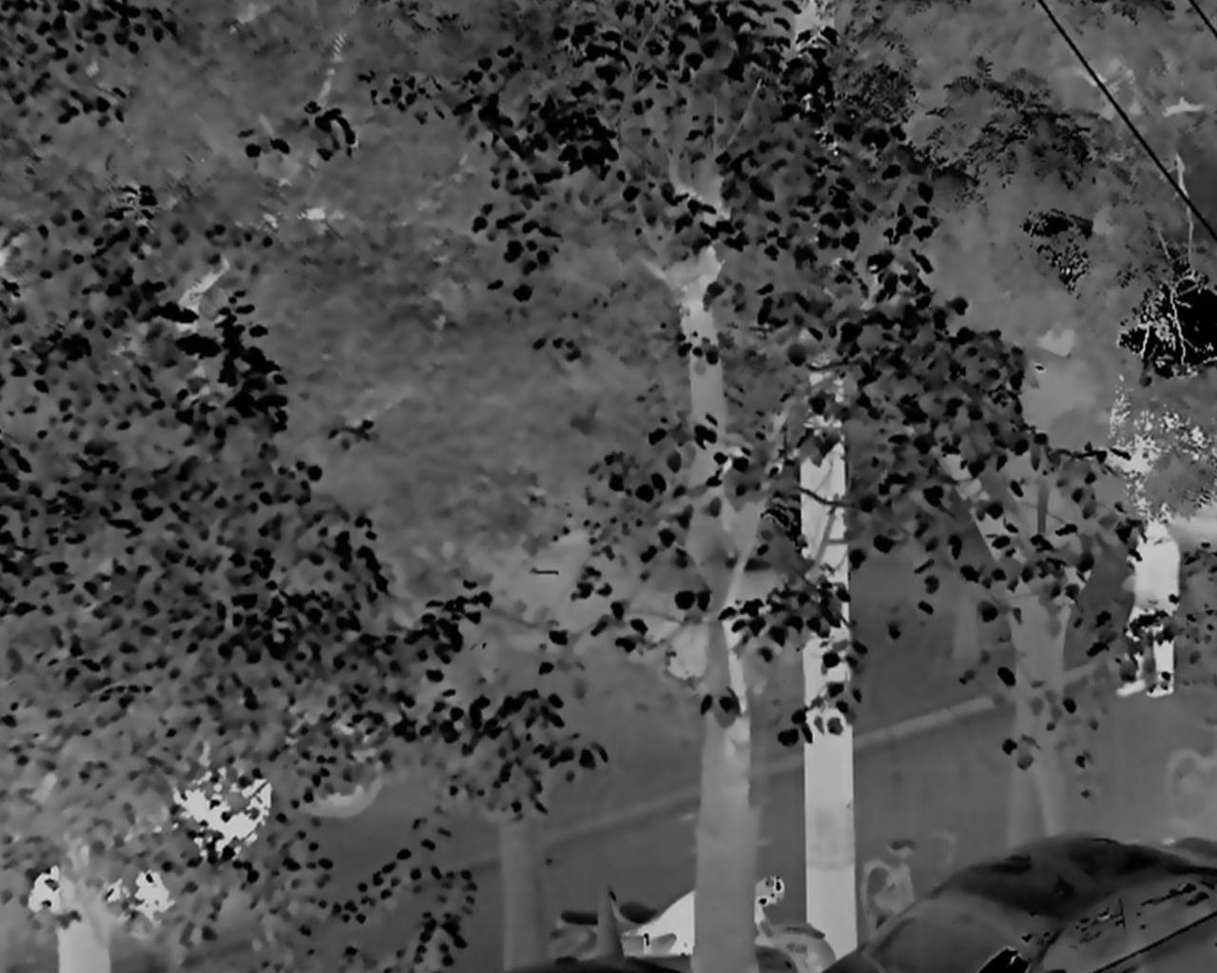person: (1116, 507, 1178, 697)
